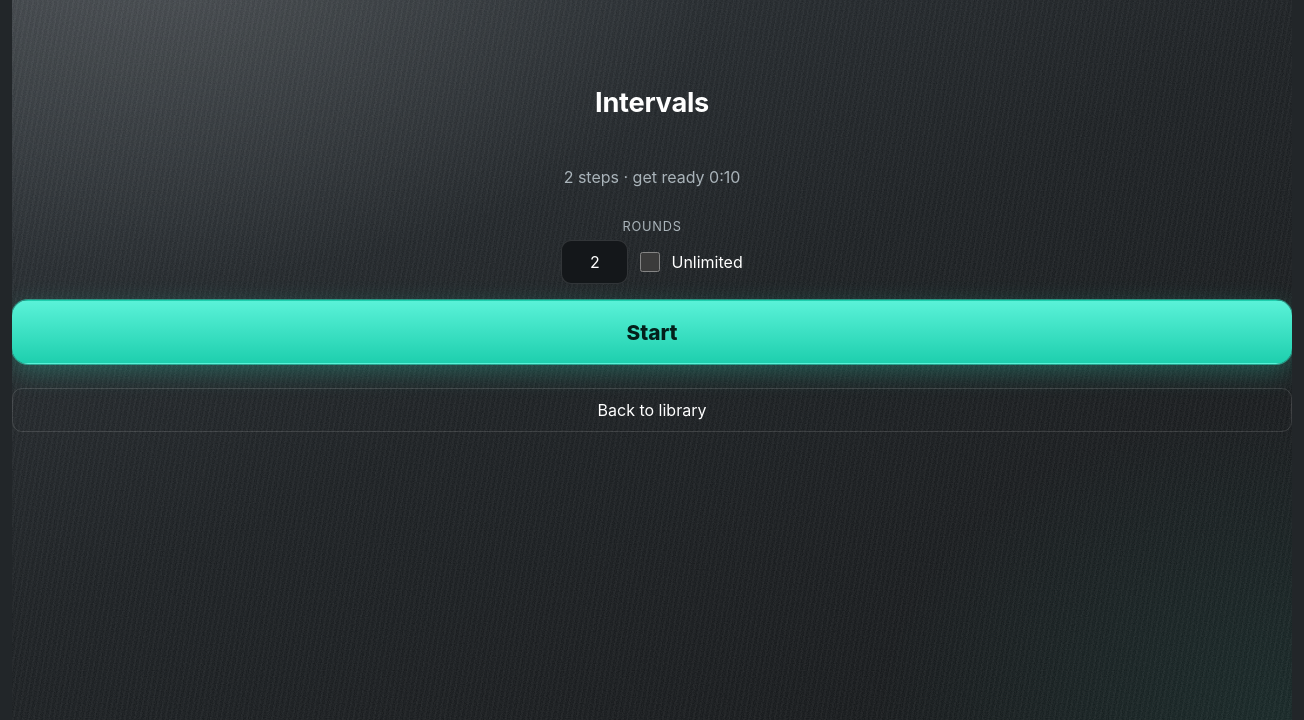
Scenario: Runner basics › waits on a Start screen, then unlocks sound and counts down the get-ready
Expected: the heading "Intervals" is shown, [595,86,709,119]
Click the button "Start" at {"x": 652, "y": 332}, box [12,300,1292,364]
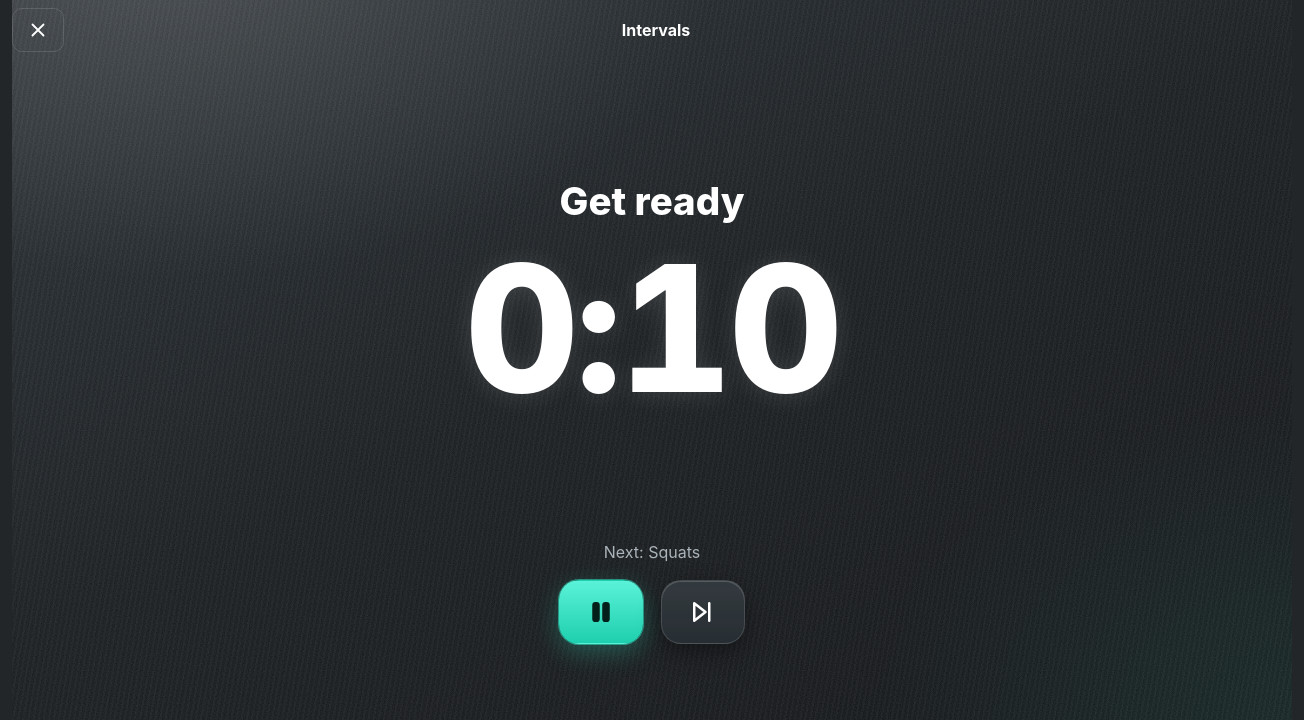
Expected: the text "Get ready" is shown, [560,178,744,224]
Result: the text with test id "clock" reads "0:10" at [465,221,839,434]
